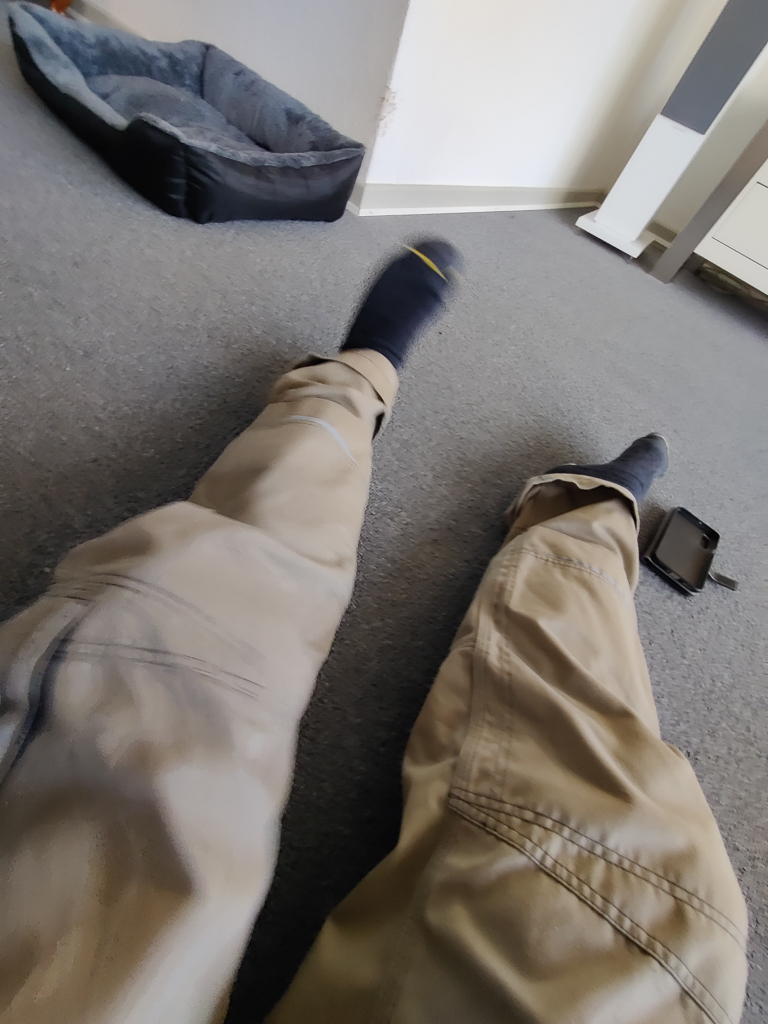Humanoid: (0, 221, 756, 1024)
